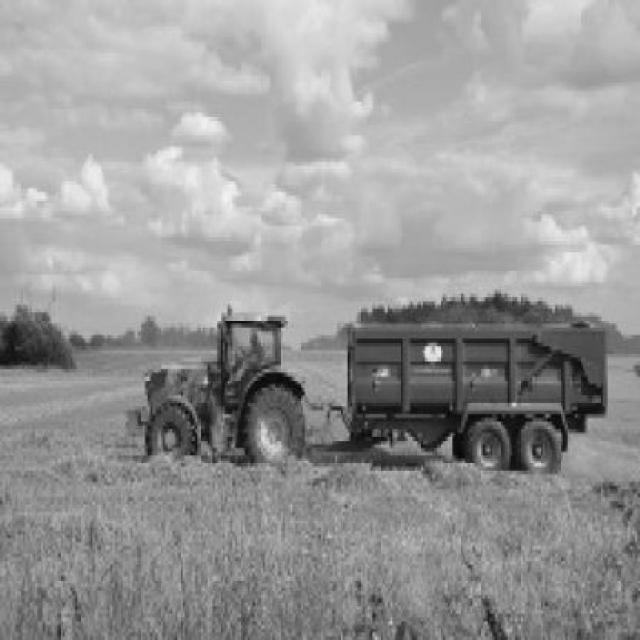Box Truck: (343, 326, 608, 474)
Construction Equipment: (124, 305, 305, 463)
